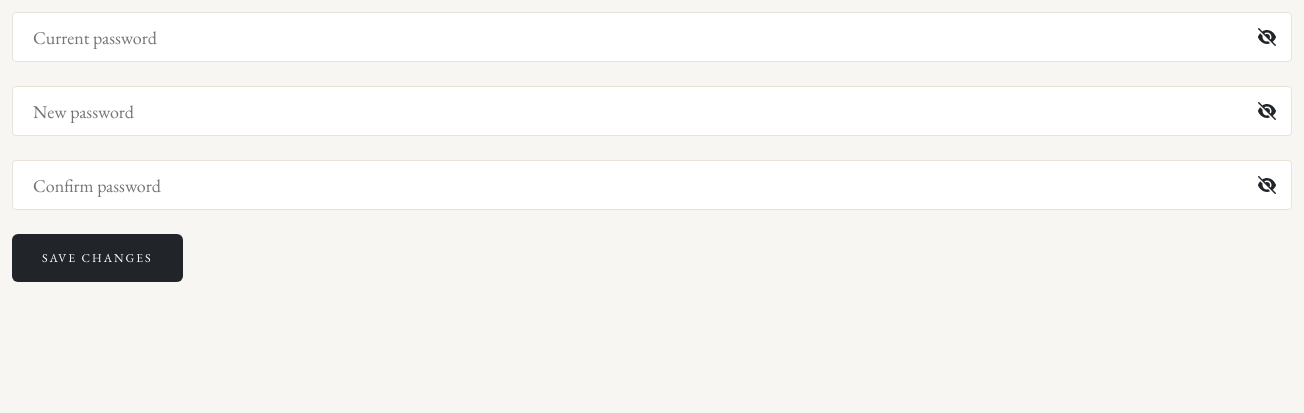
Test: PasswordForm component › shows error message for password less than 8 characters
The image size is (1304, 413).
Type "pass" into the password field labelled "New password".
click(652, 111); type("pass")  # box [12,86,1292,136]
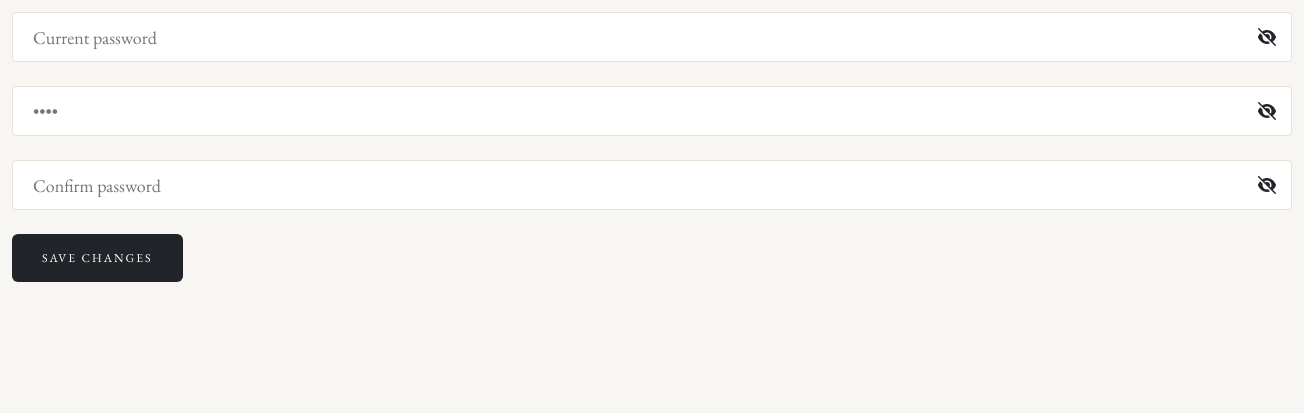
Click the button "Save changes".
click(97, 258)  # box [12,234,183,282]
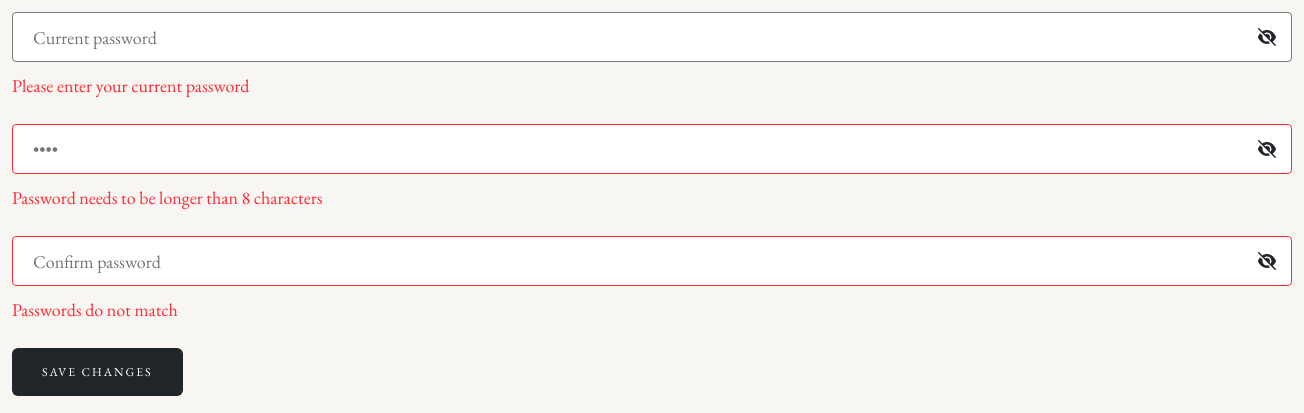
Expected: the text "Password needs to be longer than 8 characters" is shown, [12,186,323,209]
